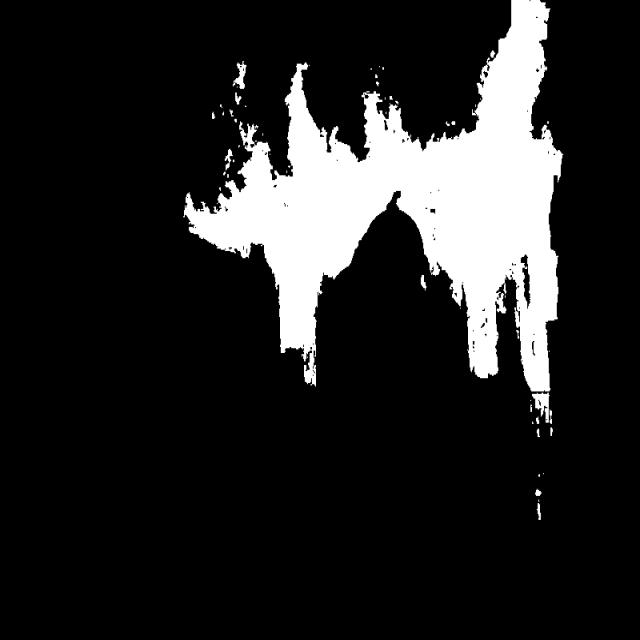fire: (145, 58, 632, 473)
